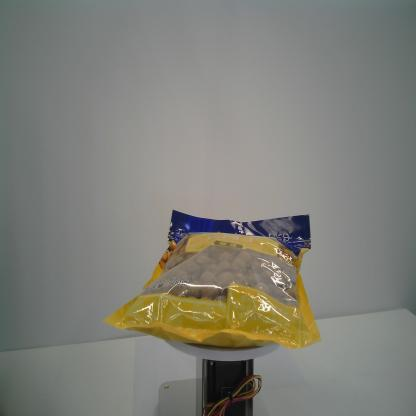Dried Food: (101, 209, 321, 350)
